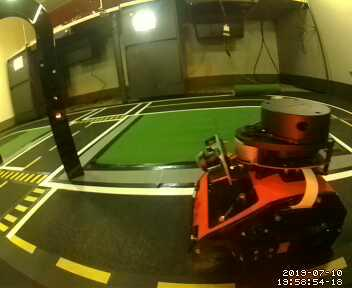pheeno: (188, 95, 347, 262)
